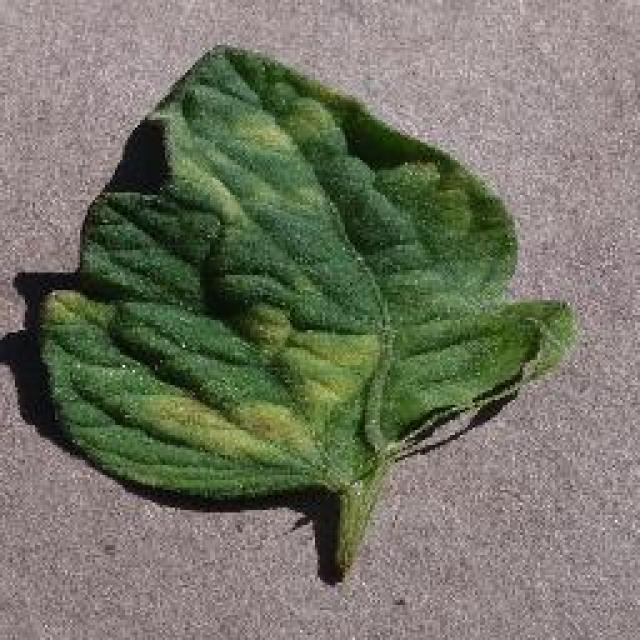leaf mold: (40, 43, 576, 568)
